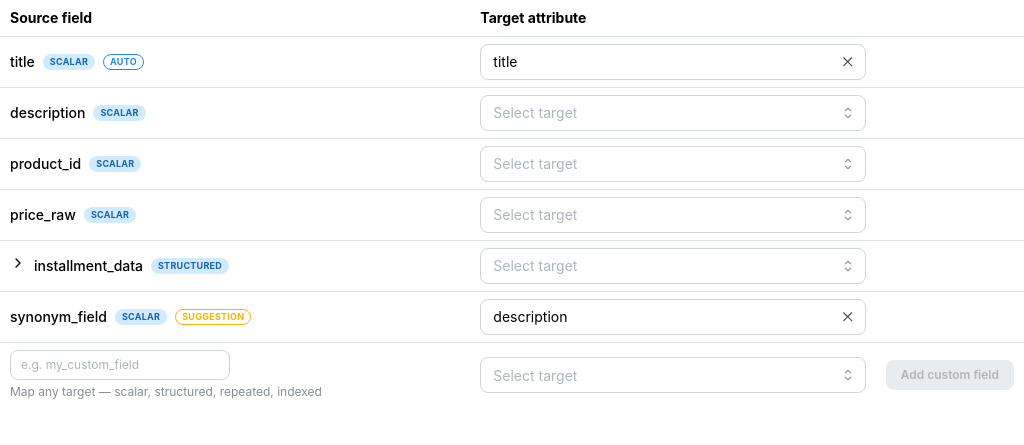
it: MappingTable › add row: invalid name shows inline error and keeps Add disabled
Step 1. Type "Bad.Name" into the field named "field name" → point(120, 365), box [10,350,230,380]
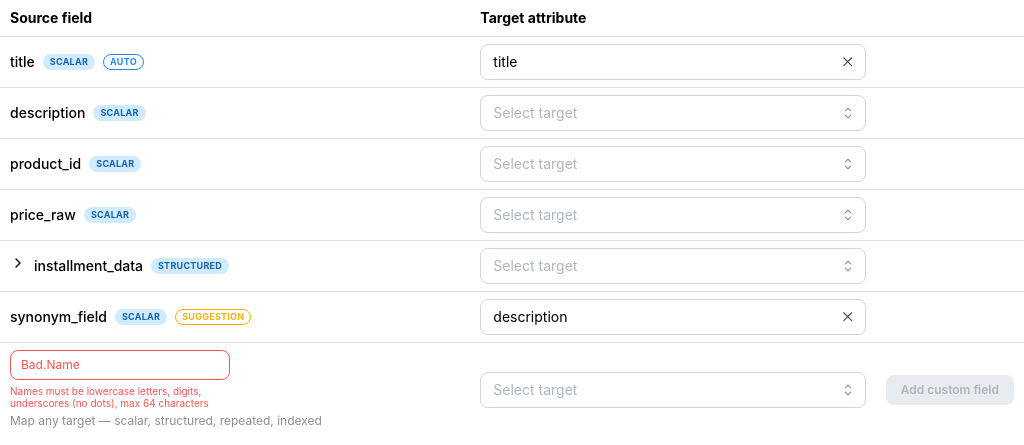
Expected: the button "Add custom field" is disabled, [886,375,1014,405]
Expected: the text "Names must be lowercase" is shown, [10,385,209,409]
